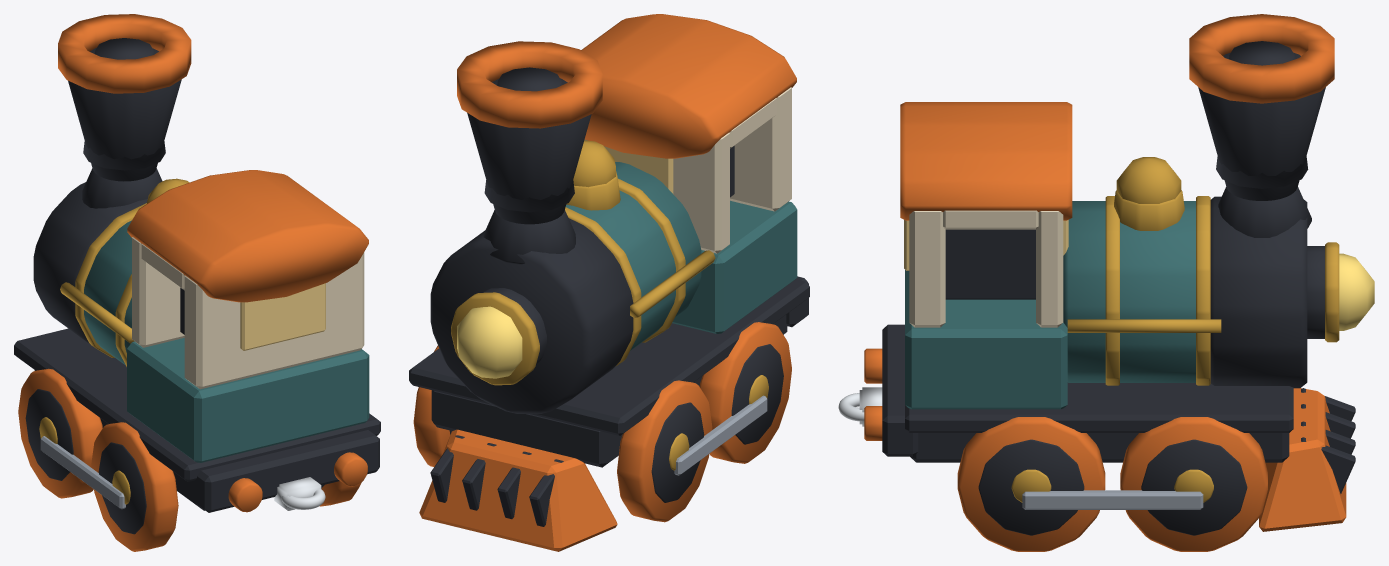
The model's file is train-track-mania-hero-train-v2.glb.
3 views of the same model, side by side, from view 1: azimuth 30°, elevation 25°; view 2: azimuth 150°, elevation 25°; view 3: azimuth 270°, elevation 25° (orthographic). The views are drawn at different scales.
Visible parts, largest first — view 1: Cab_Roof_Arch, Cab_Lower, Cab_Rear_Wall, Running_Board, Funnel_Rim_Orange, Funnel_Stack, Rear_Buffer_Beam, Smokebox, Wheel_Rim_L_-0.17, Wheel_Rim_L_+0.19, Cab_Window_Rear, Cab_Front_Wall (+15 smaller); view 2: Cab_Roof_Arch, Smokebox, Cowcatcher_Base, Running_Board, Funnel_Rim_Orange, Cab_Lower, Boiler, Funnel_Stack, Chassis, Wheel_Rim_L_+0.19, Cab_Rear_Wall, Wheel_Rim_L_-0.17 (+21 smaller); view 3: Cab_Roof_Arch, Boiler, Cab_Lower, Smokebox, Running_Board, Funnel_Rim_Orange, Funnel_Stack, Wheel_Rim_R_-0.17, Wheel_Rim_R_+0.19, Cowcatcher_Base, Cab_Interior, Wheel_Hub_R_-0.17 (+22 smaller).
Part boxes in pixels (x1=…): Cab_Roof_Arch: x1=127, y1=170, x2=368, y2=302; Cab_Lower: x1=127, y1=338, x2=369, y2=462; Cab_Rear_Wall: x1=184, y1=252, x2=364, y2=389; Running_Board: x1=14, y1=328, x2=380, y2=481; Funnel_Rim_Orange: x1=58, y1=14, x2=191, y2=93; Funnel_Stack: x1=68, y1=47, x2=181, y2=181; Rear_Buffer_Beam: x1=193, y1=430, x2=379, y2=512; Smokebox: x1=33, y1=182, x2=147, y2=344; Wheel_Rim_L_-0.17: x1=91, y1=422, x2=178, y2=551; Wheel_Rim_L_+0.19: x1=18, y1=368, x2=102, y2=498; Cab_Window_Rear: x1=240, y1=283, x2=325, y2=350; Cab_Front_Wall: x1=132, y1=237, x2=184, y2=347; Cab_Roof_Arch: x1=581, y1=14, x2=796, y2=158; Smokebox: x1=430, y1=218, x2=633, y2=413; Cowcatcher_Base: x1=419, y1=429, x2=617, y2=551; Running_Board: x1=409, y1=279, x2=809, y2=435; Funnel_Rim_Orange: x1=457, y1=41, x2=602, y2=128; Cab_Lower: x1=672, y1=200, x2=797, y2=333; Boiler: x1=565, y1=162, x2=701, y2=350; Funnel_Stack: x1=467, y1=78, x2=591, y2=224; Chassis: x1=431, y1=315, x2=787, y2=467; Wheel_Rim_L_+0.19: x1=617, y1=380, x2=712, y2=522; Cab_Rear_Wall: x1=730, y1=87, x2=791, y2=211; Wheel_Rim_L_-0.17: x1=699, y1=322, x2=791, y2=463; Cab_Roof_Arch: x1=900, y1=102, x2=1072, y2=220; Boiler: x1=1063, y1=201, x2=1195, y2=382; Cab_Lower: x1=905, y1=270, x2=1067, y2=409; Smokebox: x1=1210, y1=196, x2=1307, y2=388; Running_Board: x1=905, y1=382, x2=1293, y2=432; Funnel_Rim_Orange: x1=1189, y1=14, x2=1334, y2=103; Funnel_Stack: x1=1198, y1=52, x2=1325, y2=200; Wheel_Rim_R_-0.17: x1=957, y1=417, x2=1105, y2=551; Wheel_Rim_R_+0.19: x1=1120, y1=417, x2=1267, y2=551; Cowcatcher_Base: x1=1259, y1=388, x2=1346, y2=531; Cab_Interior: x1=945, y1=229, x2=1035, y2=299; Wheel_Hub_R_-0.17: x1=978, y1=439, x2=1084, y2=535.
Size of the model in its own units: 0.634 by 1.1 by 1.19.
